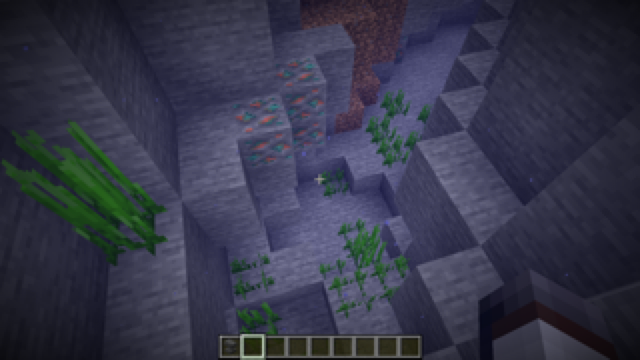copper: (231, 56, 326, 181)
